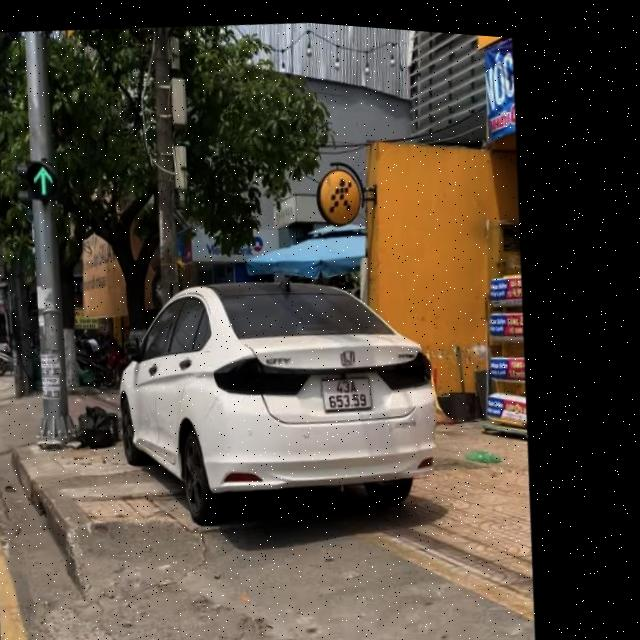car: (89, 246, 461, 558)
plate: (311, 362, 381, 420)
